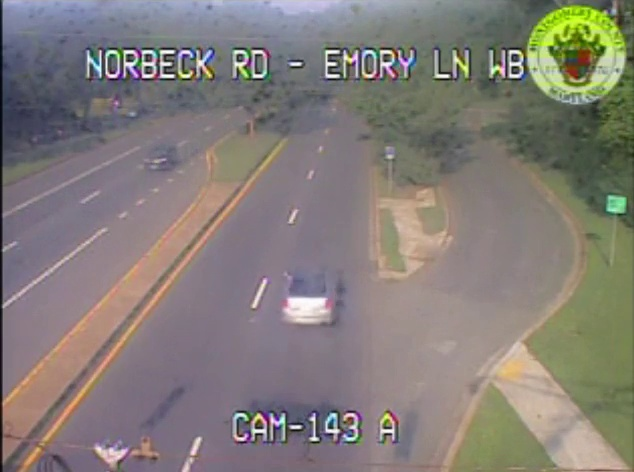car: (281, 271, 335, 325)
